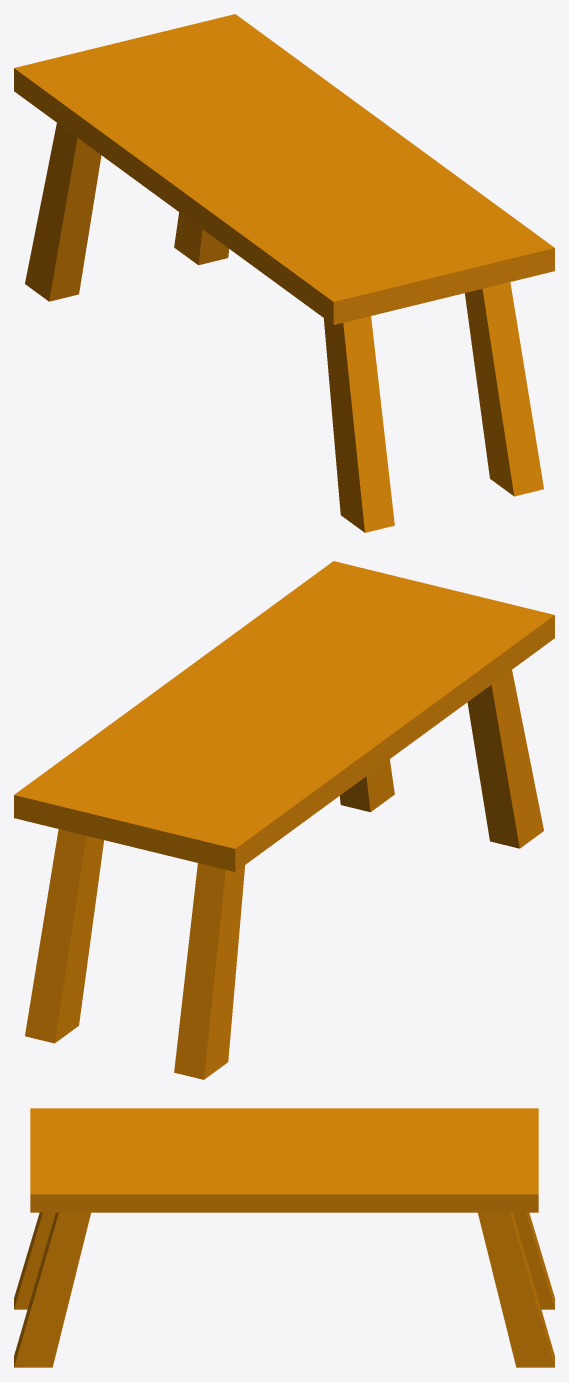
Rendered from table.fbx.
3 views of the same model, one above another, from view 1: azimuth 30°, elevation 25°; view 2: azimuth 150°, elevation 25°; view 3: azimuth 270°, elevation 25° (orthographic). The views are drawn at different scales.
Visible parts, largest first — view 1: Table; view 2: Table; view 3: Table.
Boxes of the visible parts, box(x1,y1,x2,y2) form: Table: box(14, 14, 554, 532); Table: box(14, 561, 554, 1079); Table: box(14, 1108, 554, 1367).
Size of the model in its own units: 400 by 395 by 1064.
